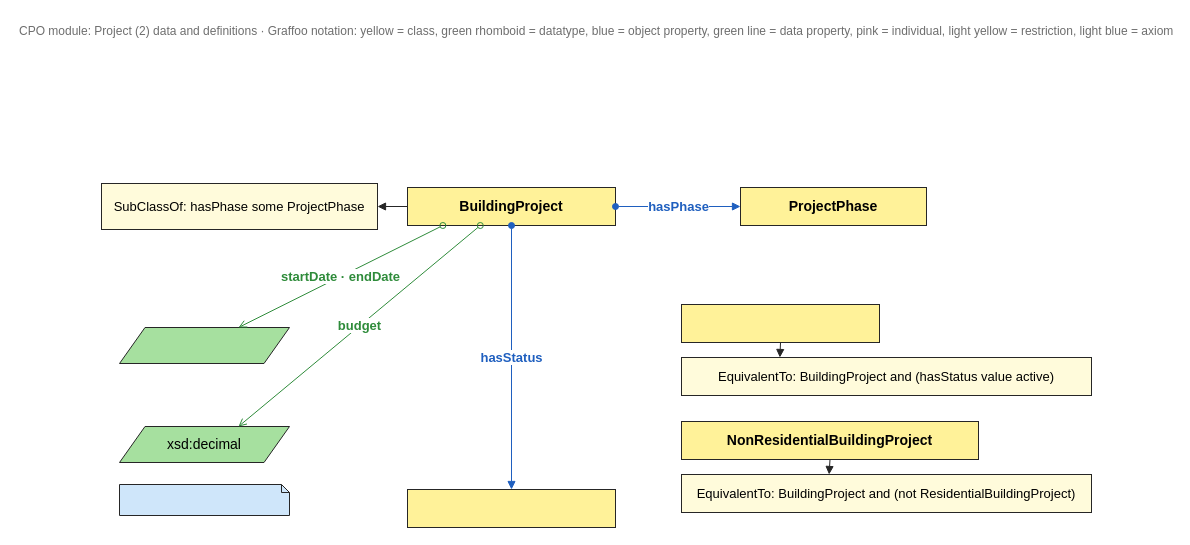
Some shapes in this 1190 by 545 pixel diagram are drawn without their labels. The box of each missing label's shape, as (x1, y1, x2, y2) in pixels:
ActiveProject: (680, 304, 880, 342)
Functional (all three): (118, 484, 290, 516)
ProjectStatus: (406, 488, 616, 528)
xsd:dateTime: (118, 326, 290, 364)
